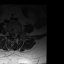CCS_normal: (13, 31, 15, 38)
LFS_stenosis: (17, 31, 19, 36)
LLS_normal: (15, 31, 17, 38)
RFS_normal: (9, 31, 11, 36)
RLS_normal: (12, 31, 13, 38)
